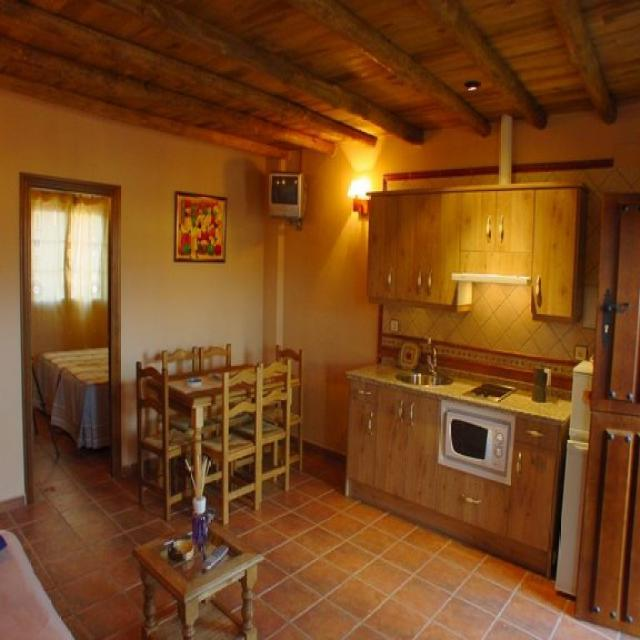2001: (34, 210, 102, 299)
beam: (180, 9, 424, 147), (293, 3, 489, 132), (447, 6, 540, 113), (551, 9, 614, 120)
bed -occluded-: (37, 350, 108, 446)
bowl -X: (183, 376, 201, 388)
ceiling beam: (1, 0, 638, 157)
chair -occluded-: (199, 367, 261, 524), (134, 364, 194, 517), (229, 360, 292, 490)
cofeemaker: (528, 361, 549, 403)
cooker: (451, 270, 528, 283)
countertop: (346, 356, 583, 421)
cupboard crop: (347, 360, 583, 575), (368, 181, 589, 321)
door knob: (602, 287, 630, 338)
doorway_ lintel: (19, 175, 122, 495)
extractor pipe: (498, 127, 513, 181)
floor: (390, 575, 454, 618), (352, 557, 411, 596), (322, 539, 377, 575), (19, 508, 72, 542)
floor -X: (1, 406, 638, 637)
fridge-freezer: (556, 367, 591, 590)
handle bar: (532, 276, 542, 305), (459, 492, 480, 505), (384, 264, 393, 290), (526, 428, 544, 440), (514, 450, 521, 480), (484, 215, 492, 240), (497, 213, 504, 241), (414, 270, 423, 290), (354, 387, 370, 396), (397, 399, 403, 421), (367, 412, 373, 434), (424, 271, 431, 289), (408, 400, 413, 422)
light fixture: (344, 173, 376, 219), (463, 73, 477, 95)
microwave oven: (444, 412, 508, 471)
painting crop: (172, 188, 228, 261)
remote: (201, 545, 228, 570)
sink basin: (397, 336, 450, 385)
stovetop: (464, 382, 508, 403)
table -X: (144, 360, 306, 510), (131, 514, 263, 639)
television cabinet: (267, 169, 306, 219)
wall clock: (263, 99, 639, 639), (1, 86, 269, 505)
